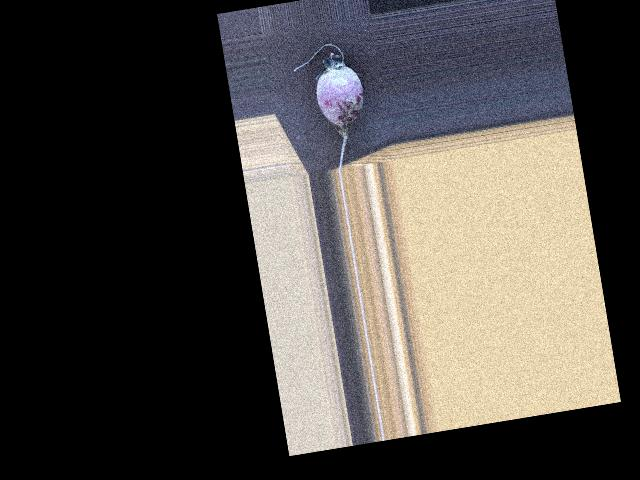beet: (290, 39, 375, 174)
